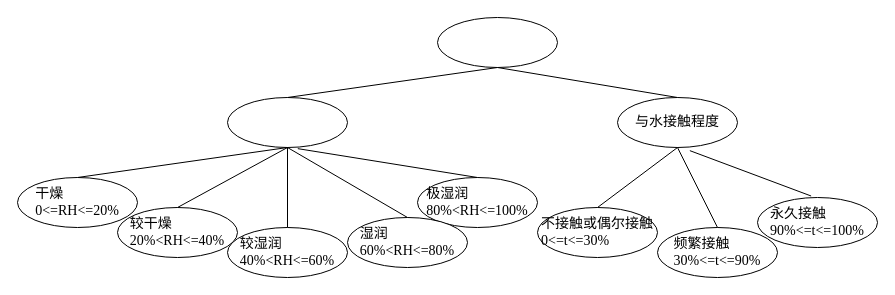
Some shapes in this 895 by 295 pixel diagram are drawn without their labels. The box of each missing label's shape, as (x1, y1, x2, y2) in pixels:
Ⅰ子类: (436, 16, 558, 68)
年平均相对湿度: (226, 96, 348, 148)
